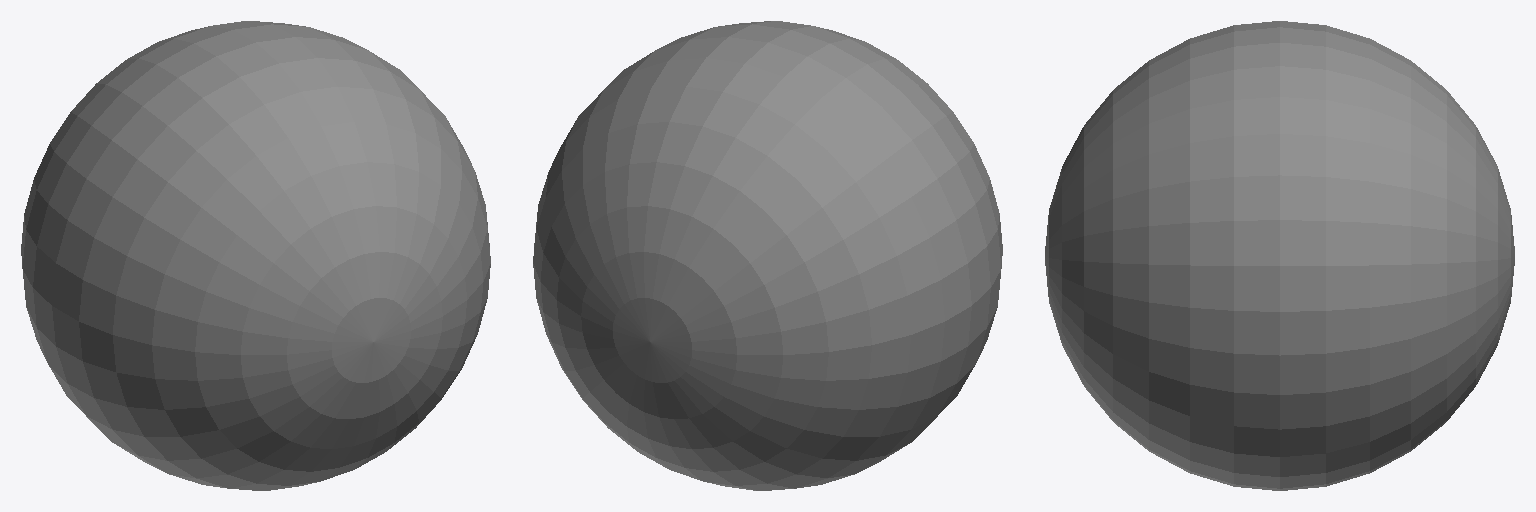
File: sky.obj
3 renders of one model, left to right at view 1: azimuth 30°, elevation 25°; view 2: azimuth 150°, elevation 25°; view 3: azimuth 270°, elevation 25°, orthographic.
Visible parts, largest first — view 1: Sphere003; view 2: Sphere003; view 3: Sphere003.
Boxes of the visible parts, <box> form: Sphere003: <box>21,21,490,490</box>; Sphere003: <box>533,21,1002,490</box>; Sphere003: <box>1045,21,1514,490</box>.
Size of the model in its own units: 946 by 946 by 946.